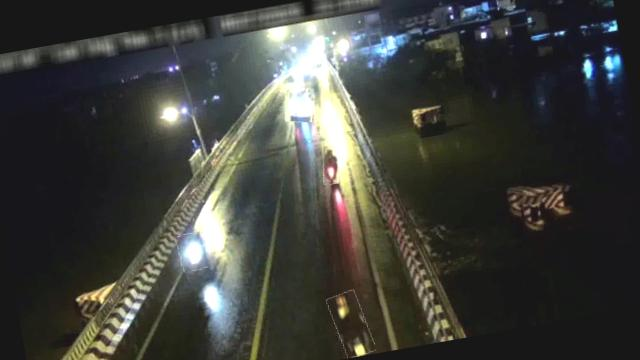Bike: (328, 288, 374, 358), (176, 230, 210, 272), (320, 143, 344, 185)
Car: (282, 84, 318, 125)
